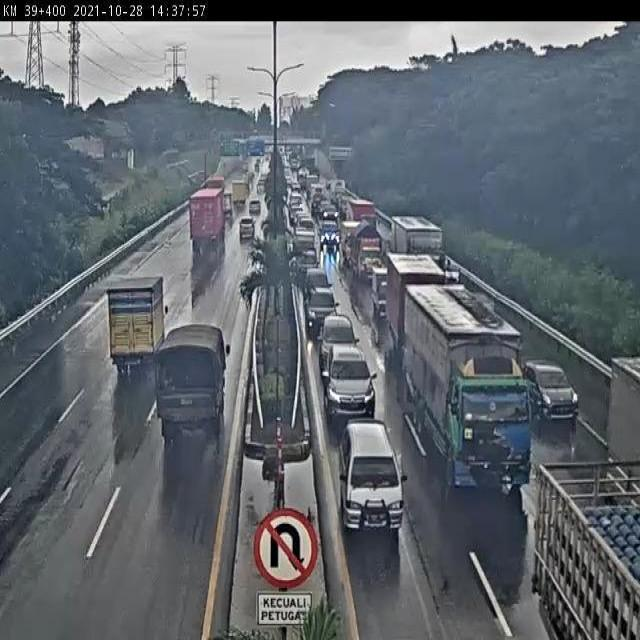car: (527, 360, 576, 423), (318, 220, 343, 251)
truck: (405, 286, 527, 486), (159, 324, 226, 436), (105, 278, 166, 374), (191, 183, 225, 249)
